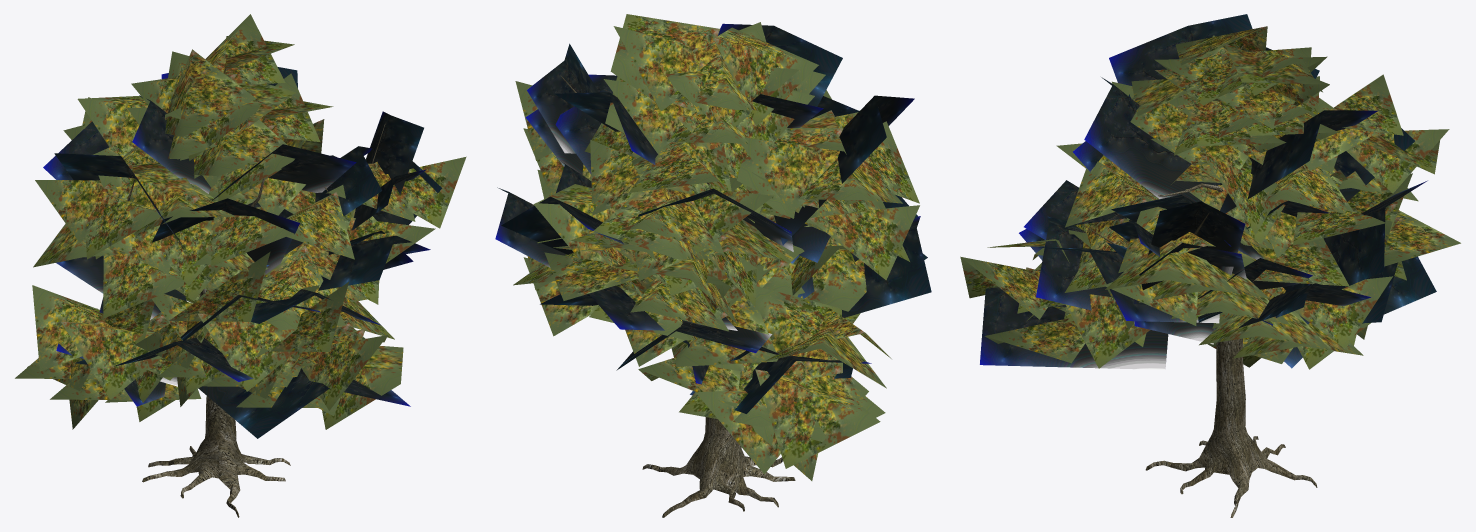
3 renders of one model, left to right at view 1: azimuth 30°, elevation 25°; view 2: azimuth 150°, elevation 25°; view 3: azimuth 270°, elevation 25°, orthographic. The views are drawn at different scales.
Parts seen in each view (by area): view 1: oak_a_fall; view 2: oak_a_fall; view 3: oak_a_fall.
Boxes of the visible parts, <box> form: oak_a_fall: <box>15,14,466,517</box>; oak_a_fall: <box>495,14,931,517</box>; oak_a_fall: <box>960,14,1460,517</box>.
Bounding box in the file's own units: 1321 × 1381 × 1378.
